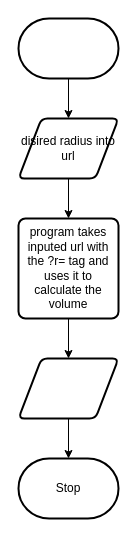
Some shapes in this 136 by 536 pixel diagram are drawn without their labels. Here are the shapes that lost their labels. From the top down, the box of each, then its label:
(17, 17, 119, 79): Start
(17, 357, 119, 419): calculated volume
